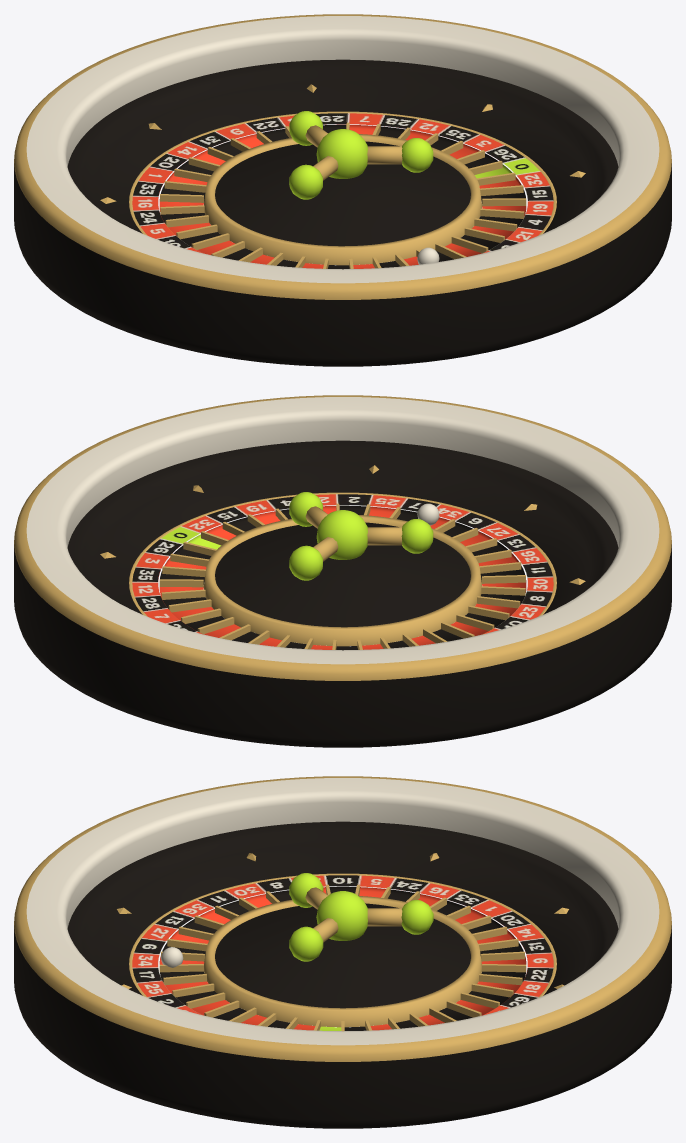
The model's file is ruleta-exportada.glb.
3 renders of one model, top to bottom at view 1: azimuth 30°, elevation 25°; view 2: azimuth 150°, elevation 25°; view 3: azimuth 270°, elevation 25°, orthographic.
Parts seen in each view (by area): view 1: GEO-ruleta_aro, GEO-ruleta_aro_costado, GEO-ruleta_pista, GEO-ruleta_cono, GEO-ruleta_aro_filete, GEO-ruleta_numeros, GEO-ruleta_trastes, GEO-ruleta_labio, GEO-ruleta_casillas, GEO-ruleta_torreta_lima, GEO-ruleta_borde, GEO-ruleta_torreta; view 2: GEO-ruleta_aro, GEO-ruleta_aro_costado, GEO-ruleta_pista, GEO-ruleta_cono, GEO-ruleta_aro_filete, GEO-ruleta_numeros, GEO-ruleta_trastes, GEO-ruleta_labio, GEO-ruleta_casillas, GEO-ruleta_torreta_lima, GEO-ruleta_borde, GEO-ruleta_torreta; view 3: GEO-ruleta_aro, GEO-ruleta_aro_costado, GEO-ruleta_pista, GEO-ruleta_cono, GEO-ruleta_aro_filete, GEO-ruleta_numeros, GEO-ruleta_trastes, GEO-ruleta_labio, GEO-ruleta_casillas, GEO-ruleta_torreta_lima, GEO-ruleta_borde, GEO-ruleta_torreta.
Boxes of the visible parts, x1,y1,x2,y2 form: GEO-ruleta_aro: (26,16,659,283); GEO-ruleta_aro_costado: (14,163,671,366); GEO-ruleta_pista: (67,59,618,233); GEO-ruleta_cono: (215,141,470,246); GEO-ruleta_aro_filete: (14,14,671,299); GEO-ruleta_numeros: (132,113,553,253); GEO-ruleta_trastes: (160,122,526,268); GEO-ruleta_labio: (204,134,482,265); GEO-ruleta_casillas: (159,124,526,269); GEO-ruleta_torreta_lima: (289,111,433,199); GEO-ruleta_borde: (129,111,556,235); GEO-ruleta_torreta: (305,125,402,180); GEO-ruleta_aro: (26,397,659,664); GEO-ruleta_aro_costado: (14,544,671,747); GEO-ruleta_pista: (67,440,618,614); GEO-ruleta_cono: (215,522,470,627); GEO-ruleta_aro_filete: (14,395,671,680); GEO-ruleta_numeros: (132,494,553,634); GEO-ruleta_trastes: (159,503,525,649); GEO-ruleta_labio: (203,515,481,646); GEO-ruleta_casillas: (159,505,526,650); GEO-ruleta_torreta_lima: (289,492,433,580); GEO-ruleta_borde: (129,492,556,616); GEO-ruleta_torreta: (305,506,402,561); GEO-ruleta_aro: (26,778,659,1045); GEO-ruleta_aro_costado: (14,925,671,1128); GEO-ruleta_pista: (67,821,618,995); GEO-ruleta_cono: (215,903,470,1008); GEO-ruleta_aro_filete: (14,776,671,1061); GEO-ruleta_numeros: (132,875,553,1015); GEO-ruleta_trastes: (159,884,526,1031); GEO-ruleta_labio: (204,896,481,1027); GEO-ruleta_casillas: (159,886,526,1030); GEO-ruleta_torreta_lima: (289,873,433,961); GEO-ruleta_borde: (129,873,556,997); GEO-ruleta_torreta: (305,887,402,942).
Bounding box in the file's own units: 0.94 × 0.159 × 0.94.
6 materials, 1 textured.
